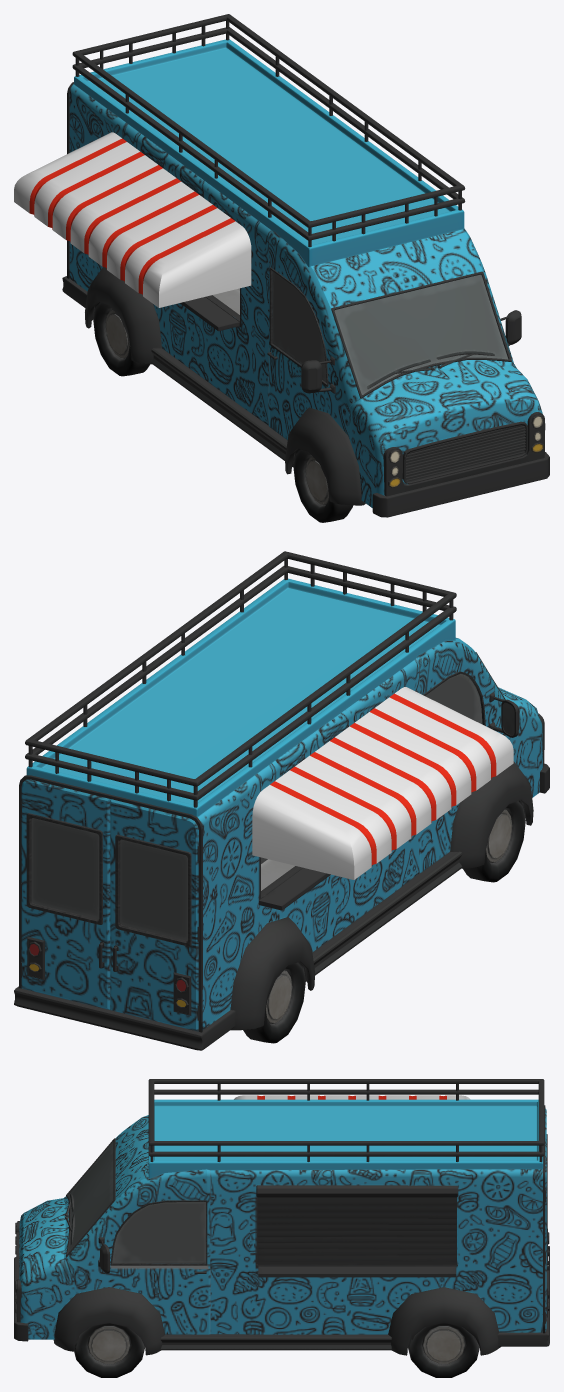
File: Stylized Food Truck.fbx
3 renders of one model, top to bottom at view 1: azimuth 30°, elevation 25°; view 2: azimuth 150°, elevation 25°; view 3: azimuth 270°, elevation 25°, orthographic. The views are drawn at different scales.
Visible parts, largest first — view 1: SM_Stylized_Food_Truck; view 2: SM_Stylized_Food_Truck; view 3: SM_Stylized_Food_Truck.
Boxes of the visible parts, box(x1,y1,x2,y2) form: SM_Stylized_Food_Truck: box(14, 14, 549, 522); SM_Stylized_Food_Truck: box(14, 551, 549, 1050); SM_Stylized_Food_Truck: box(14, 1079, 549, 1377).
Bounding box in the file's own units: 292 × 265 × 561.
